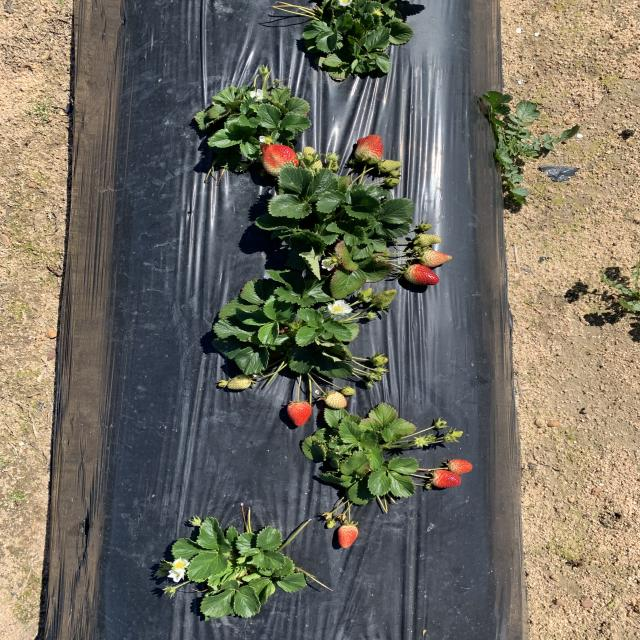unripe: (261, 143, 298, 176), (353, 133, 382, 164), (402, 262, 441, 285), (286, 401, 314, 427), (432, 469, 462, 489), (338, 524, 360, 548), (448, 459, 472, 474)
